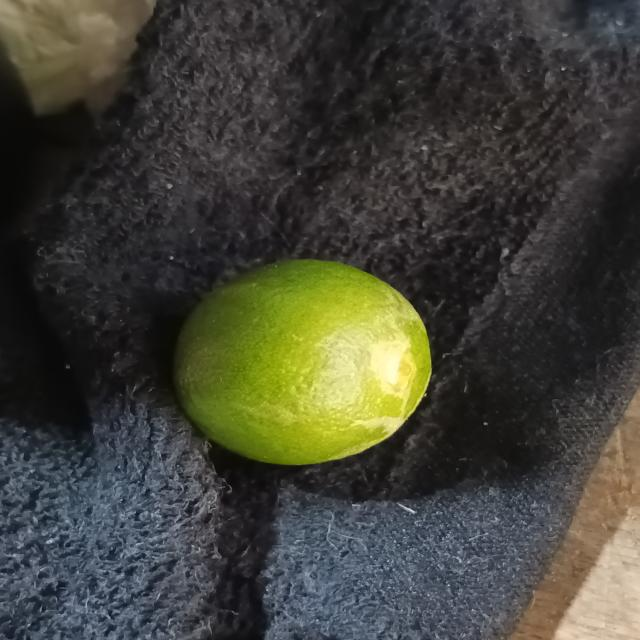thrips: (175, 264, 432, 464)
